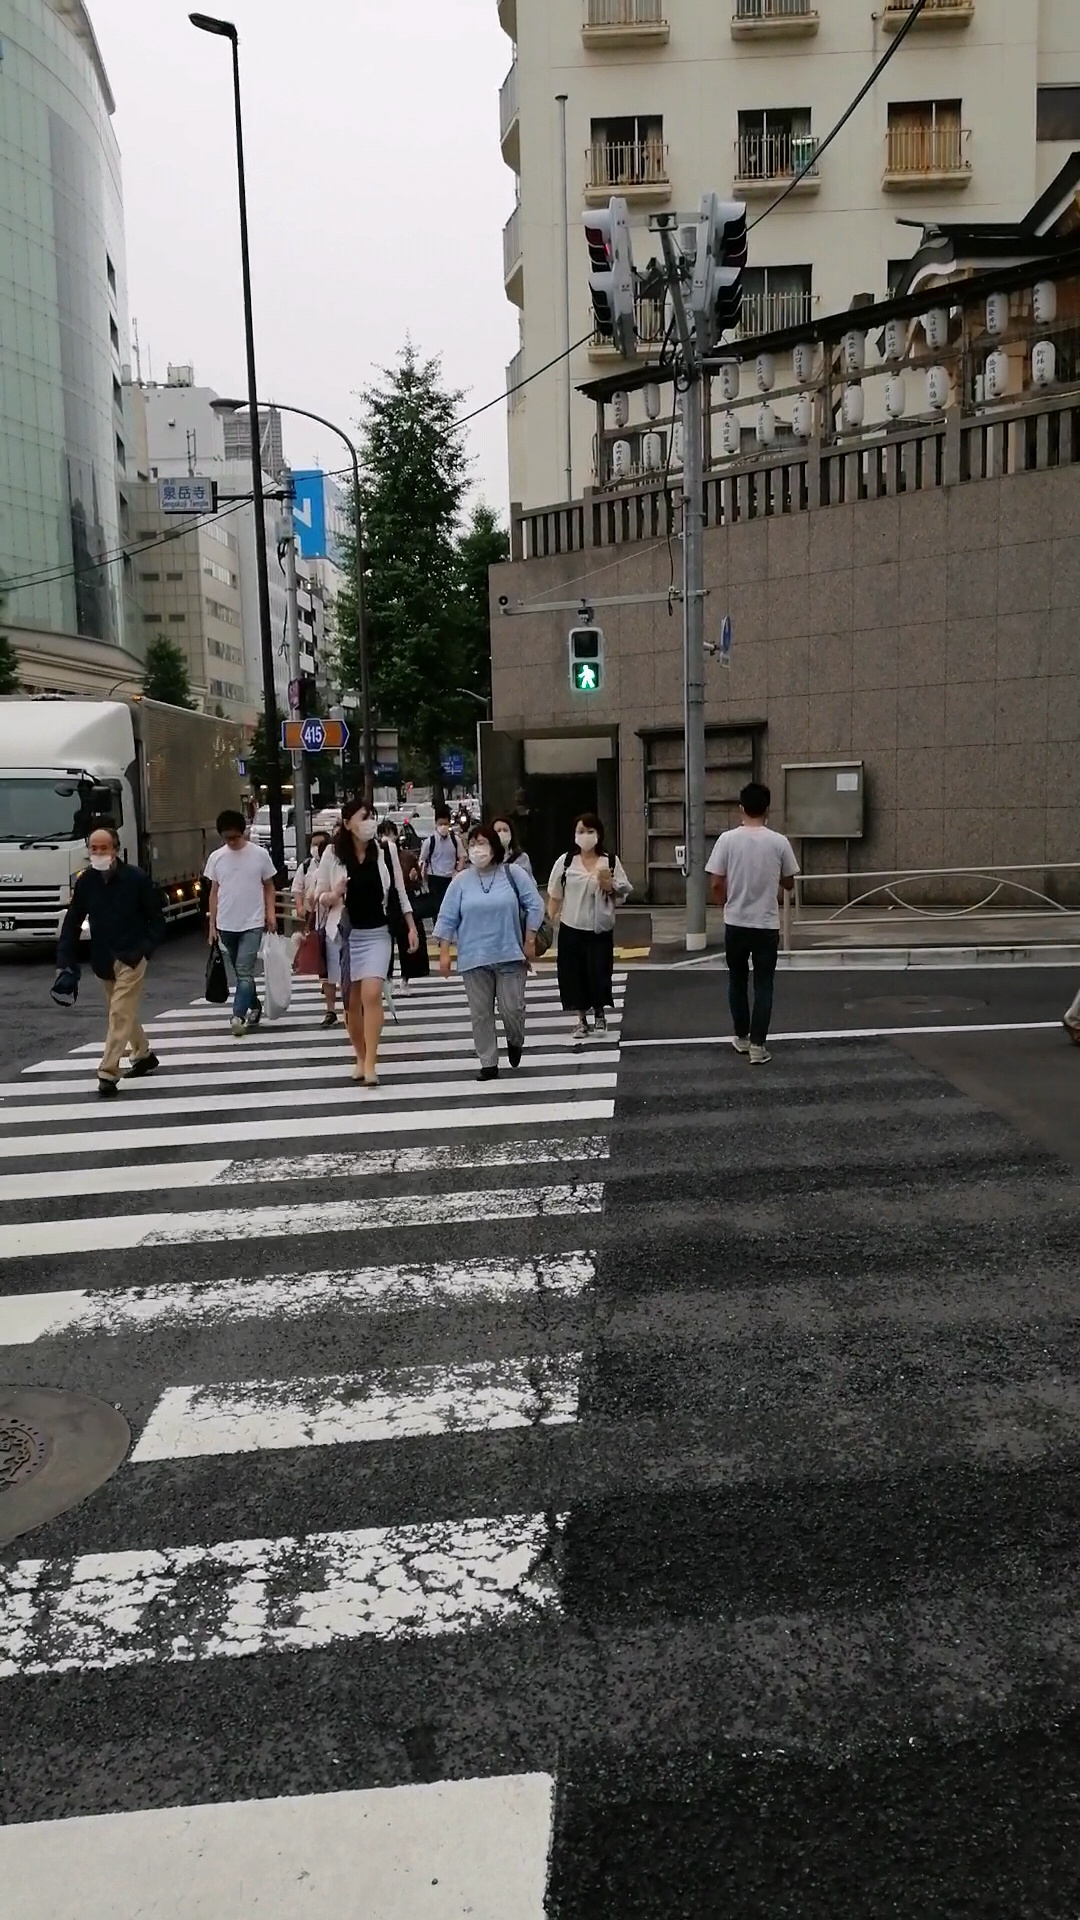green: (567, 626, 605, 694)
